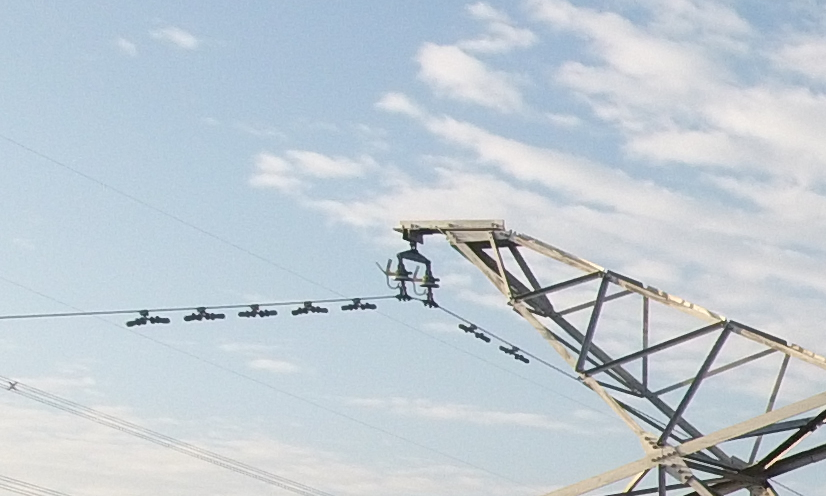damper: (123, 308, 173, 328), (457, 319, 491, 345), (181, 305, 226, 324), (496, 341, 529, 366), (236, 302, 278, 319), (290, 299, 329, 316), (337, 297, 377, 312)
